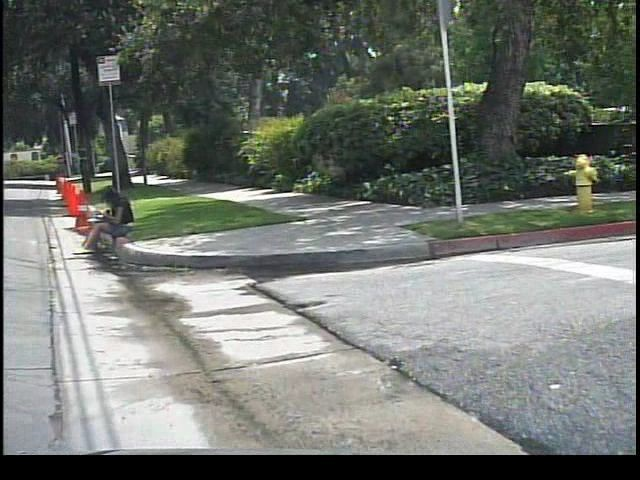person: (75, 184, 142, 258)
